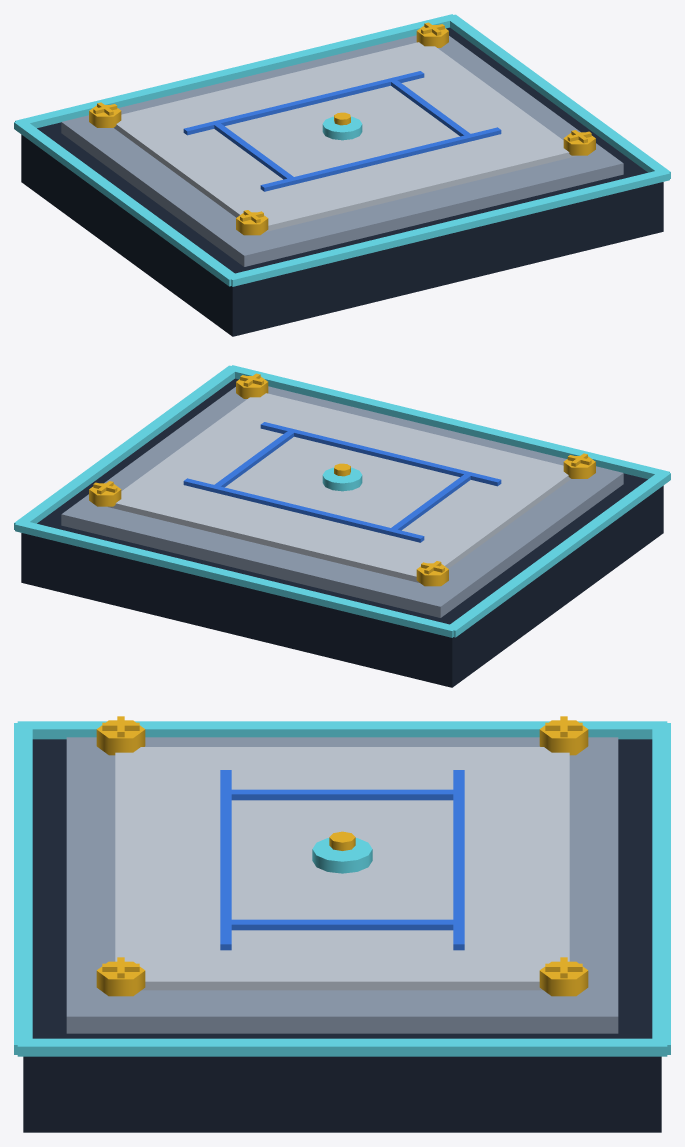
The model's file is toy_sky_metal_plate.glb.
The picture shows the model from 3 angles, top to bottom: view 1: azimuth 30°, elevation 25°; view 2: azimuth 150°, elevation 25°; view 3: azimuth 270°, elevation 25°; orthographic projection. The views are drawn at different scales.
Visible parts, largest first — view 1: solid_3, solid_1, solid_2, solid_5, solid_4, solid_6, solid_7, solid_21, solid_20, solid_22, solid_23, solid_24 (+4 smaller); view 2: solid_3, solid_1, solid_2, solid_4, solid_5, solid_6, solid_7, solid_20, solid_21, solid_22, solid_23, solid_24 (+4 smaller); view 3: solid_3, solid_1, solid_2, solid_7, solid_6, solid_5, solid_4, solid_22, solid_23, solid_20, solid_21, solid_24 (+4 smaller).
Part boxes in pixels (bbox=[...]): solid_3: bbox=[114, 42, 576, 231]; solid_1: bbox=[21, 27, 663, 336]; solid_2: bbox=[61, 35, 623, 266]; solid_5: bbox=[227, 169, 669, 286]; solid_4: bbox=[15, 14, 457, 128]; solid_6: bbox=[14, 119, 237, 286]; solid_7: bbox=[450, 14, 670, 178]; solid_21: bbox=[260, 127, 501, 191]; solid_20: bbox=[183, 71, 424, 135]; solid_22: bbox=[212, 122, 293, 179]; solid_23: bbox=[391, 80, 470, 136]; solid_24: bbox=[322, 116, 362, 140]; solid_3: bbox=[108, 393, 570, 582]; solid_1: bbox=[21, 378, 663, 687]; solid_2: bbox=[61, 386, 623, 617]; solid_4: bbox=[15, 520, 457, 637]; solid_5: bbox=[227, 365, 669, 479]; solid_6: bbox=[446, 470, 670, 637]; solid_7: bbox=[14, 365, 236, 529]; solid_20: bbox=[183, 478, 424, 542]; solid_21: bbox=[260, 422, 501, 486]; solid_22: bbox=[391, 473, 472, 530]; solid_23: bbox=[214, 431, 294, 487]; solid_24: bbox=[322, 467, 362, 491]; solid_3: bbox=[115, 747, 569, 990]; solid_1: bbox=[23, 739, 661, 1132]; solid_2: bbox=[66, 737, 618, 1033]; solid_7: bbox=[17, 1038, 667, 1056]; solid_6: bbox=[17, 721, 667, 739]; solid_5: bbox=[14, 723, 32, 1054]; solid_4: bbox=[652, 723, 670, 1054]; solid_22: bbox=[226, 789, 458, 800]; solid_23: bbox=[226, 919, 457, 930]; solid_20: bbox=[453, 770, 464, 950]; solid_21: bbox=[220, 770, 231, 950]; solid_24: bbox=[312, 838, 372, 873].
Size of the model in its own units: 4.1 by 0.805 by 3.5.
